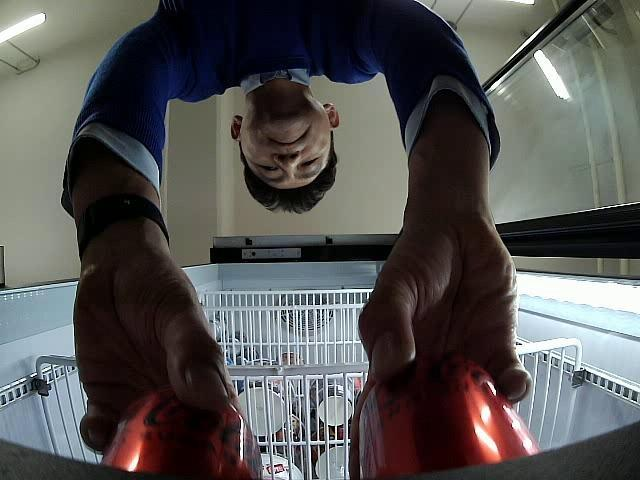11_cocaColaZero: (360, 350, 540, 480), (100, 383, 261, 480)
